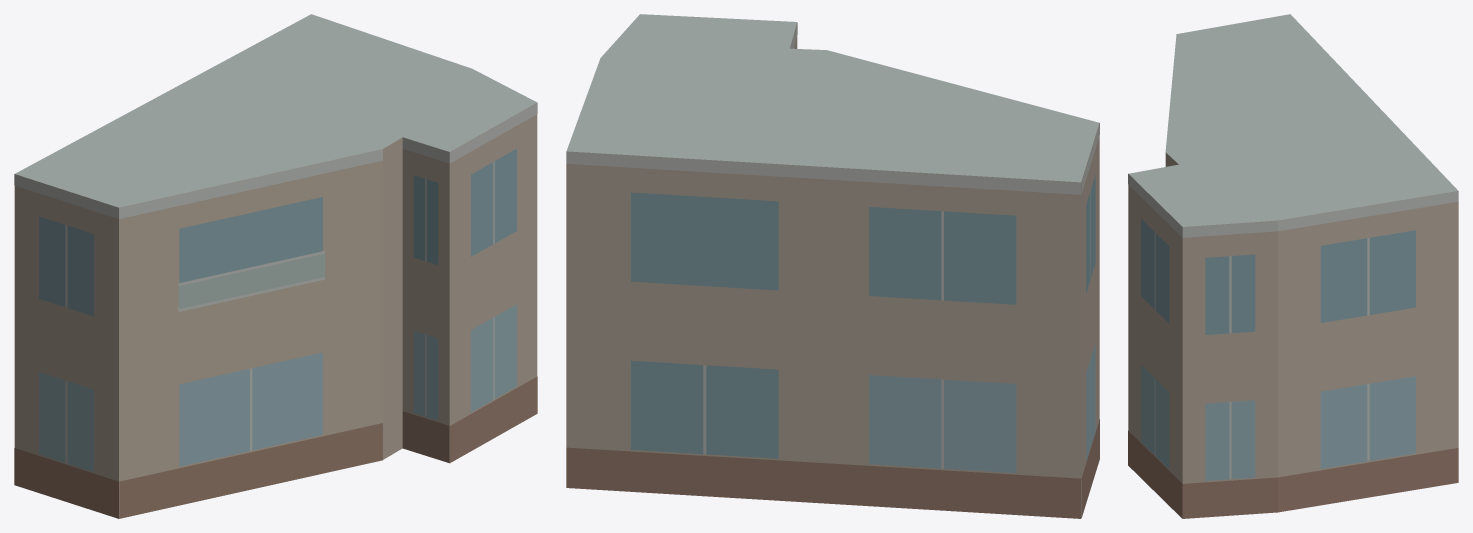
The model's file is survey-upis-32475545.glb.
3 views of the same model, side by side, from view 1: azimuth 30°, elevation 25°; view 2: azimuth 150°, elevation 25°; view 3: azimuth 270°, elevation 25° (orthographic). The views are drawn at different scales.
Visible parts, largest first — view 1: survey-upis-32475545.tmp; view 2: survey-upis-32475545.tmp; view 3: survey-upis-32475545.tmp.
Part boxes in pixels (bbox=[...]): survey-upis-32475545.tmp: bbox=[14, 14, 537, 518]; survey-upis-32475545.tmp: bbox=[566, 14, 1099, 518]; survey-upis-32475545.tmp: bbox=[1128, 14, 1458, 518].
Bounding box in the file's own units: 10.34 × 6.6 × 6.78.
